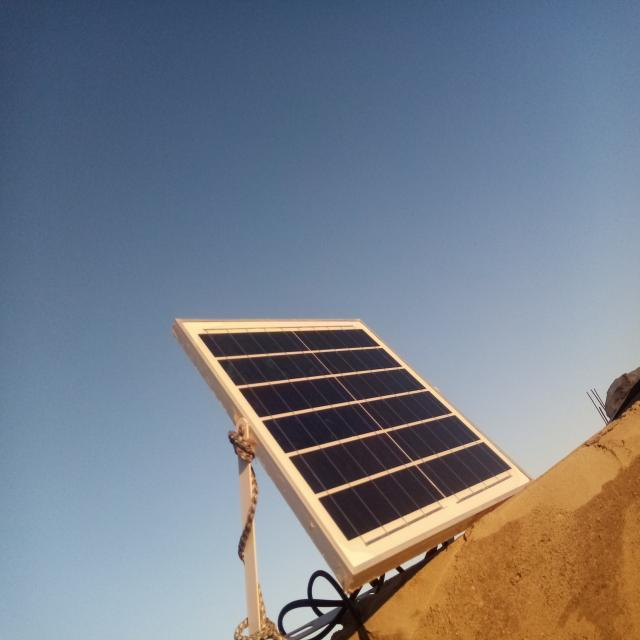Normal Solar Panel: (178, 320, 532, 575)
